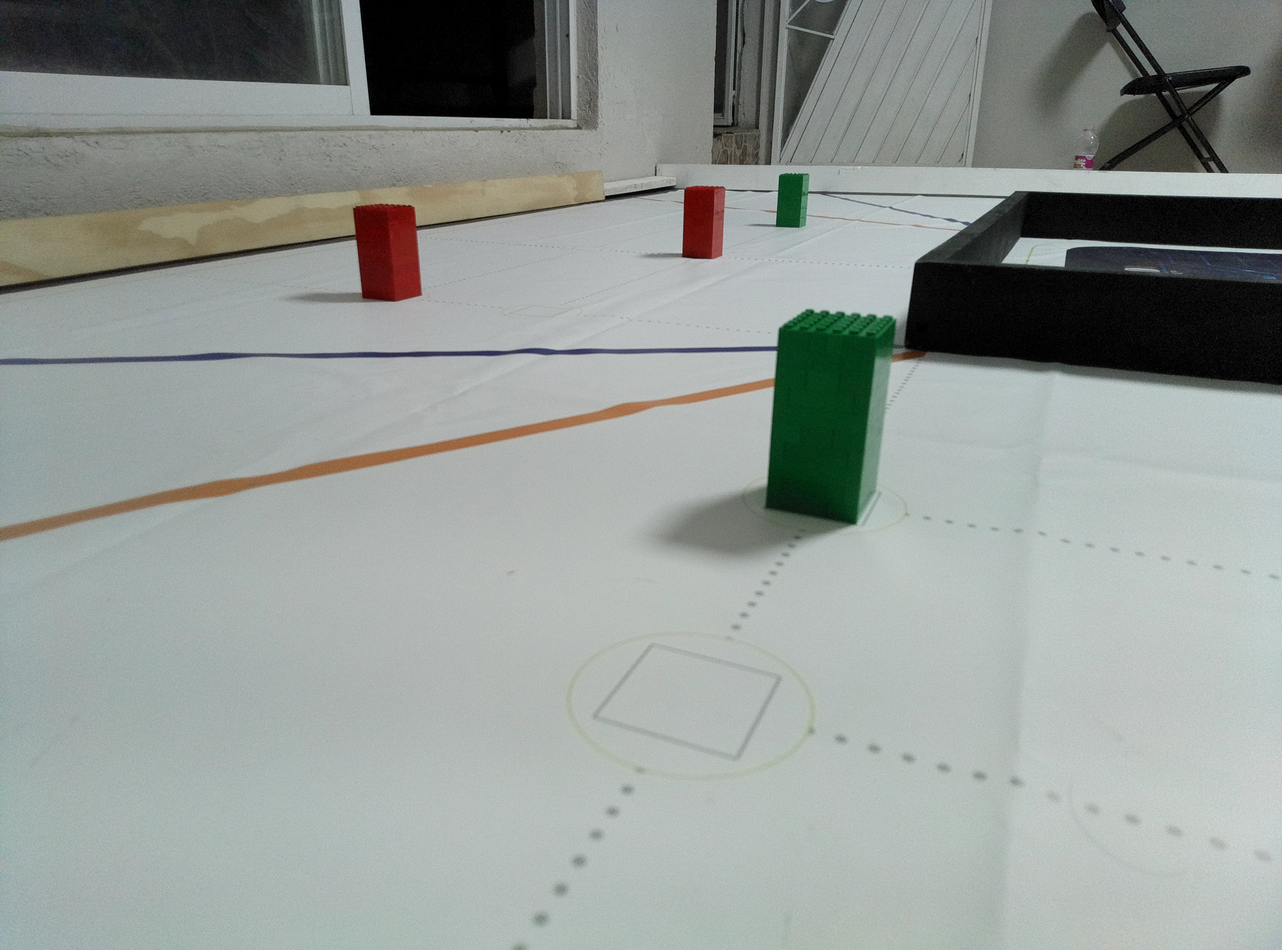greenbox: (764, 308, 899, 524), (775, 172, 810, 227)
redbox: (352, 205, 423, 302), (682, 185, 726, 259)
